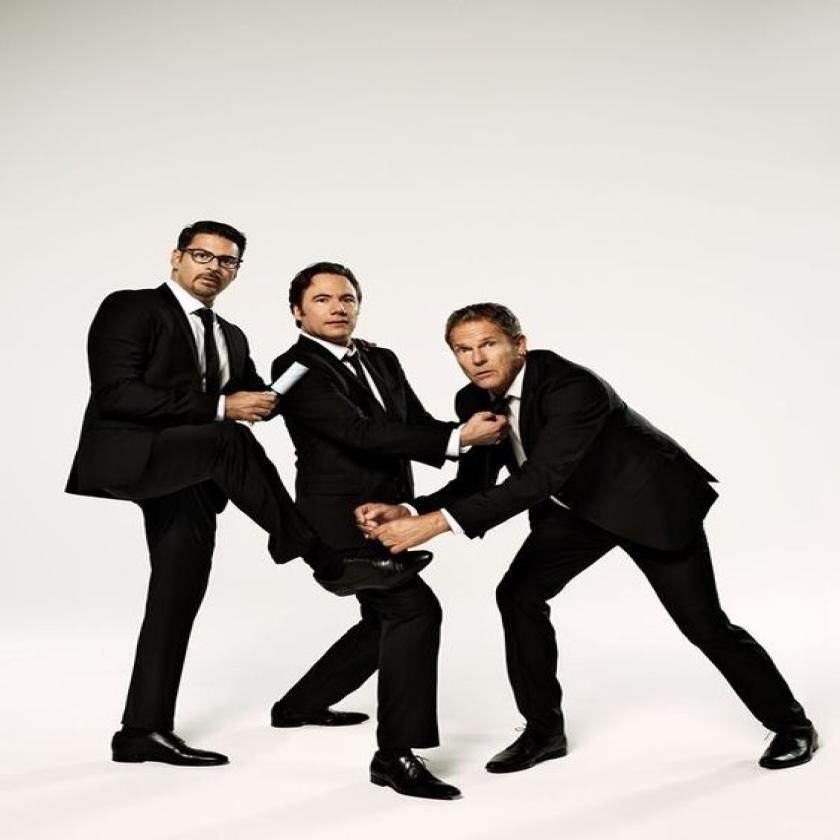Sin_casco: (438, 301, 530, 395), (164, 218, 253, 312), (286, 258, 371, 350)
